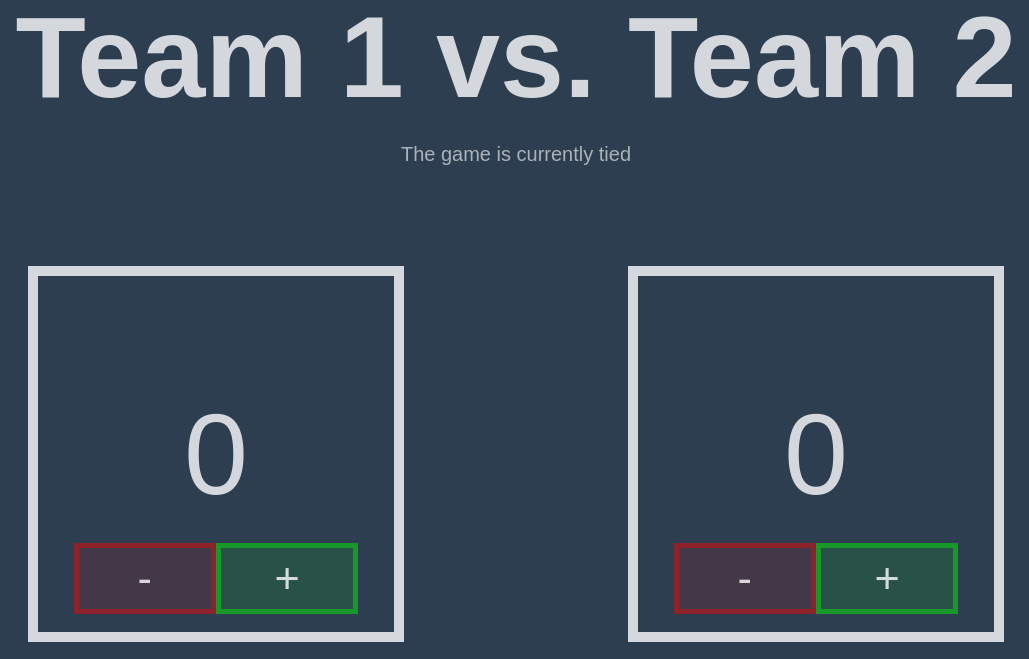
ScoreBoard › increases score when + button is clicked
The image size is (1029, 659).
What coordinates should you click on to do the following:
click the 1st button with class "button-add"
I would click on:
 (287, 579)
Its box is [216,543,358,614].
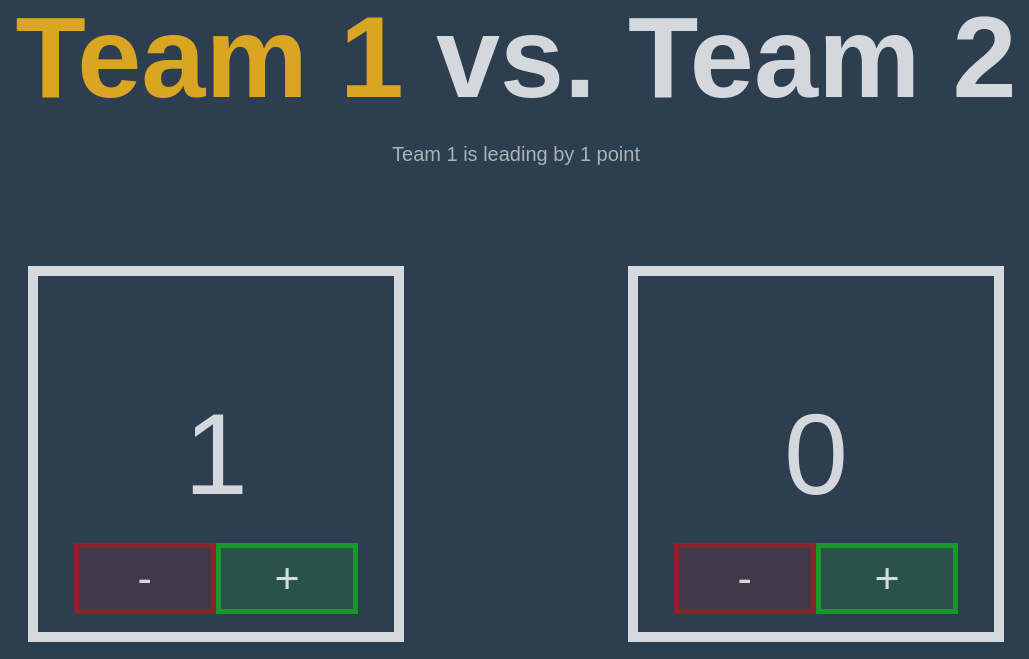
What coordinates should you click on to do the following:
click the 1st button with class "button-add"
I would click on:
 (287, 579)
Its box is [216,543,358,614].
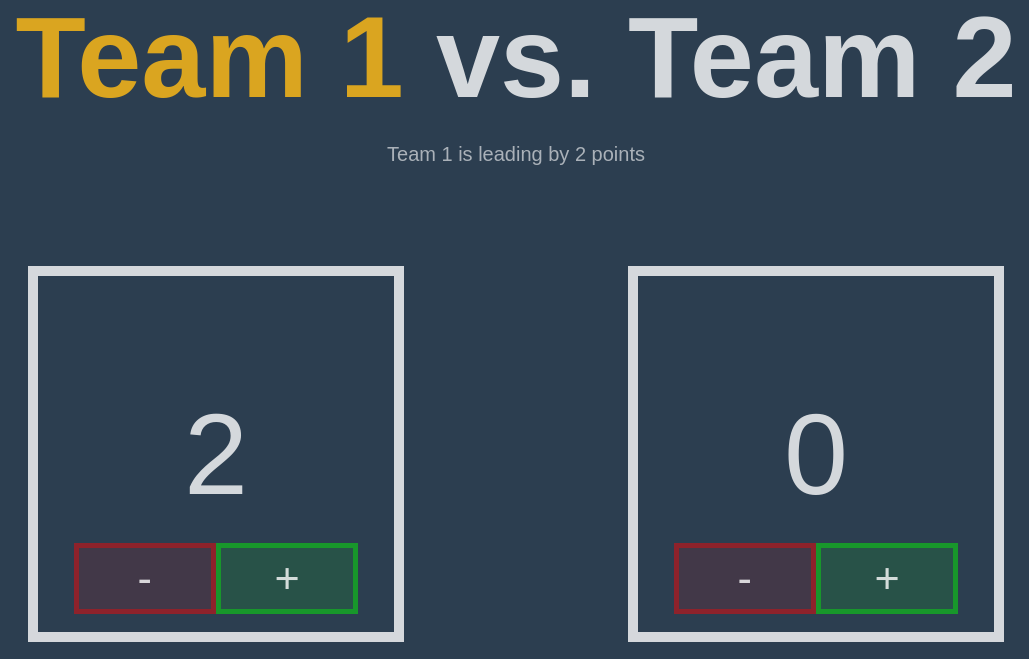
What coordinates should you click on to do the following:
click the 1st button with class "button-add"
I would click on:
 (287, 579)
Its box is [216,543,358,614].
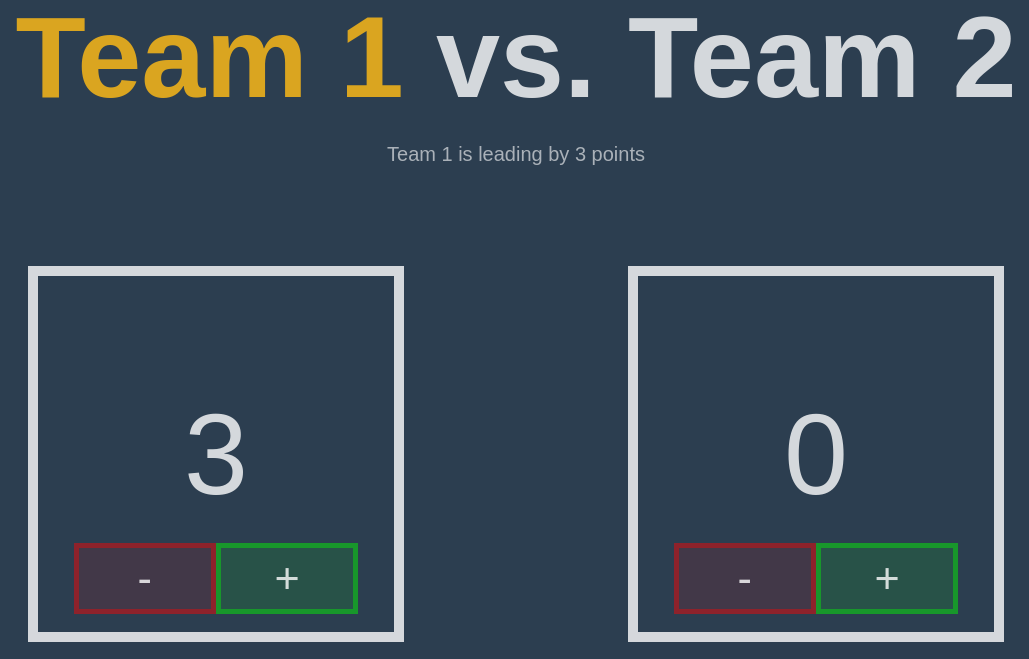
Now the text "3" is shown, box [184,388,248,520]
